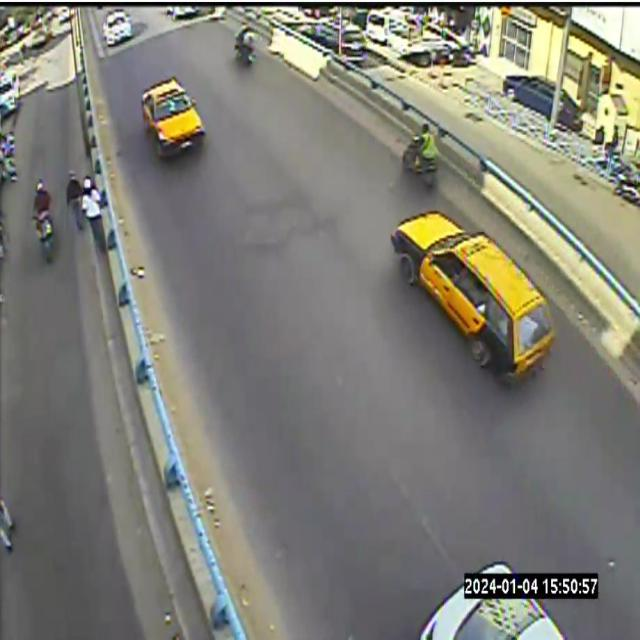car: (390, 210, 554, 378), (419, 586, 565, 639), (142, 77, 205, 156), (103, 9, 134, 46), (480, 563, 513, 579)
